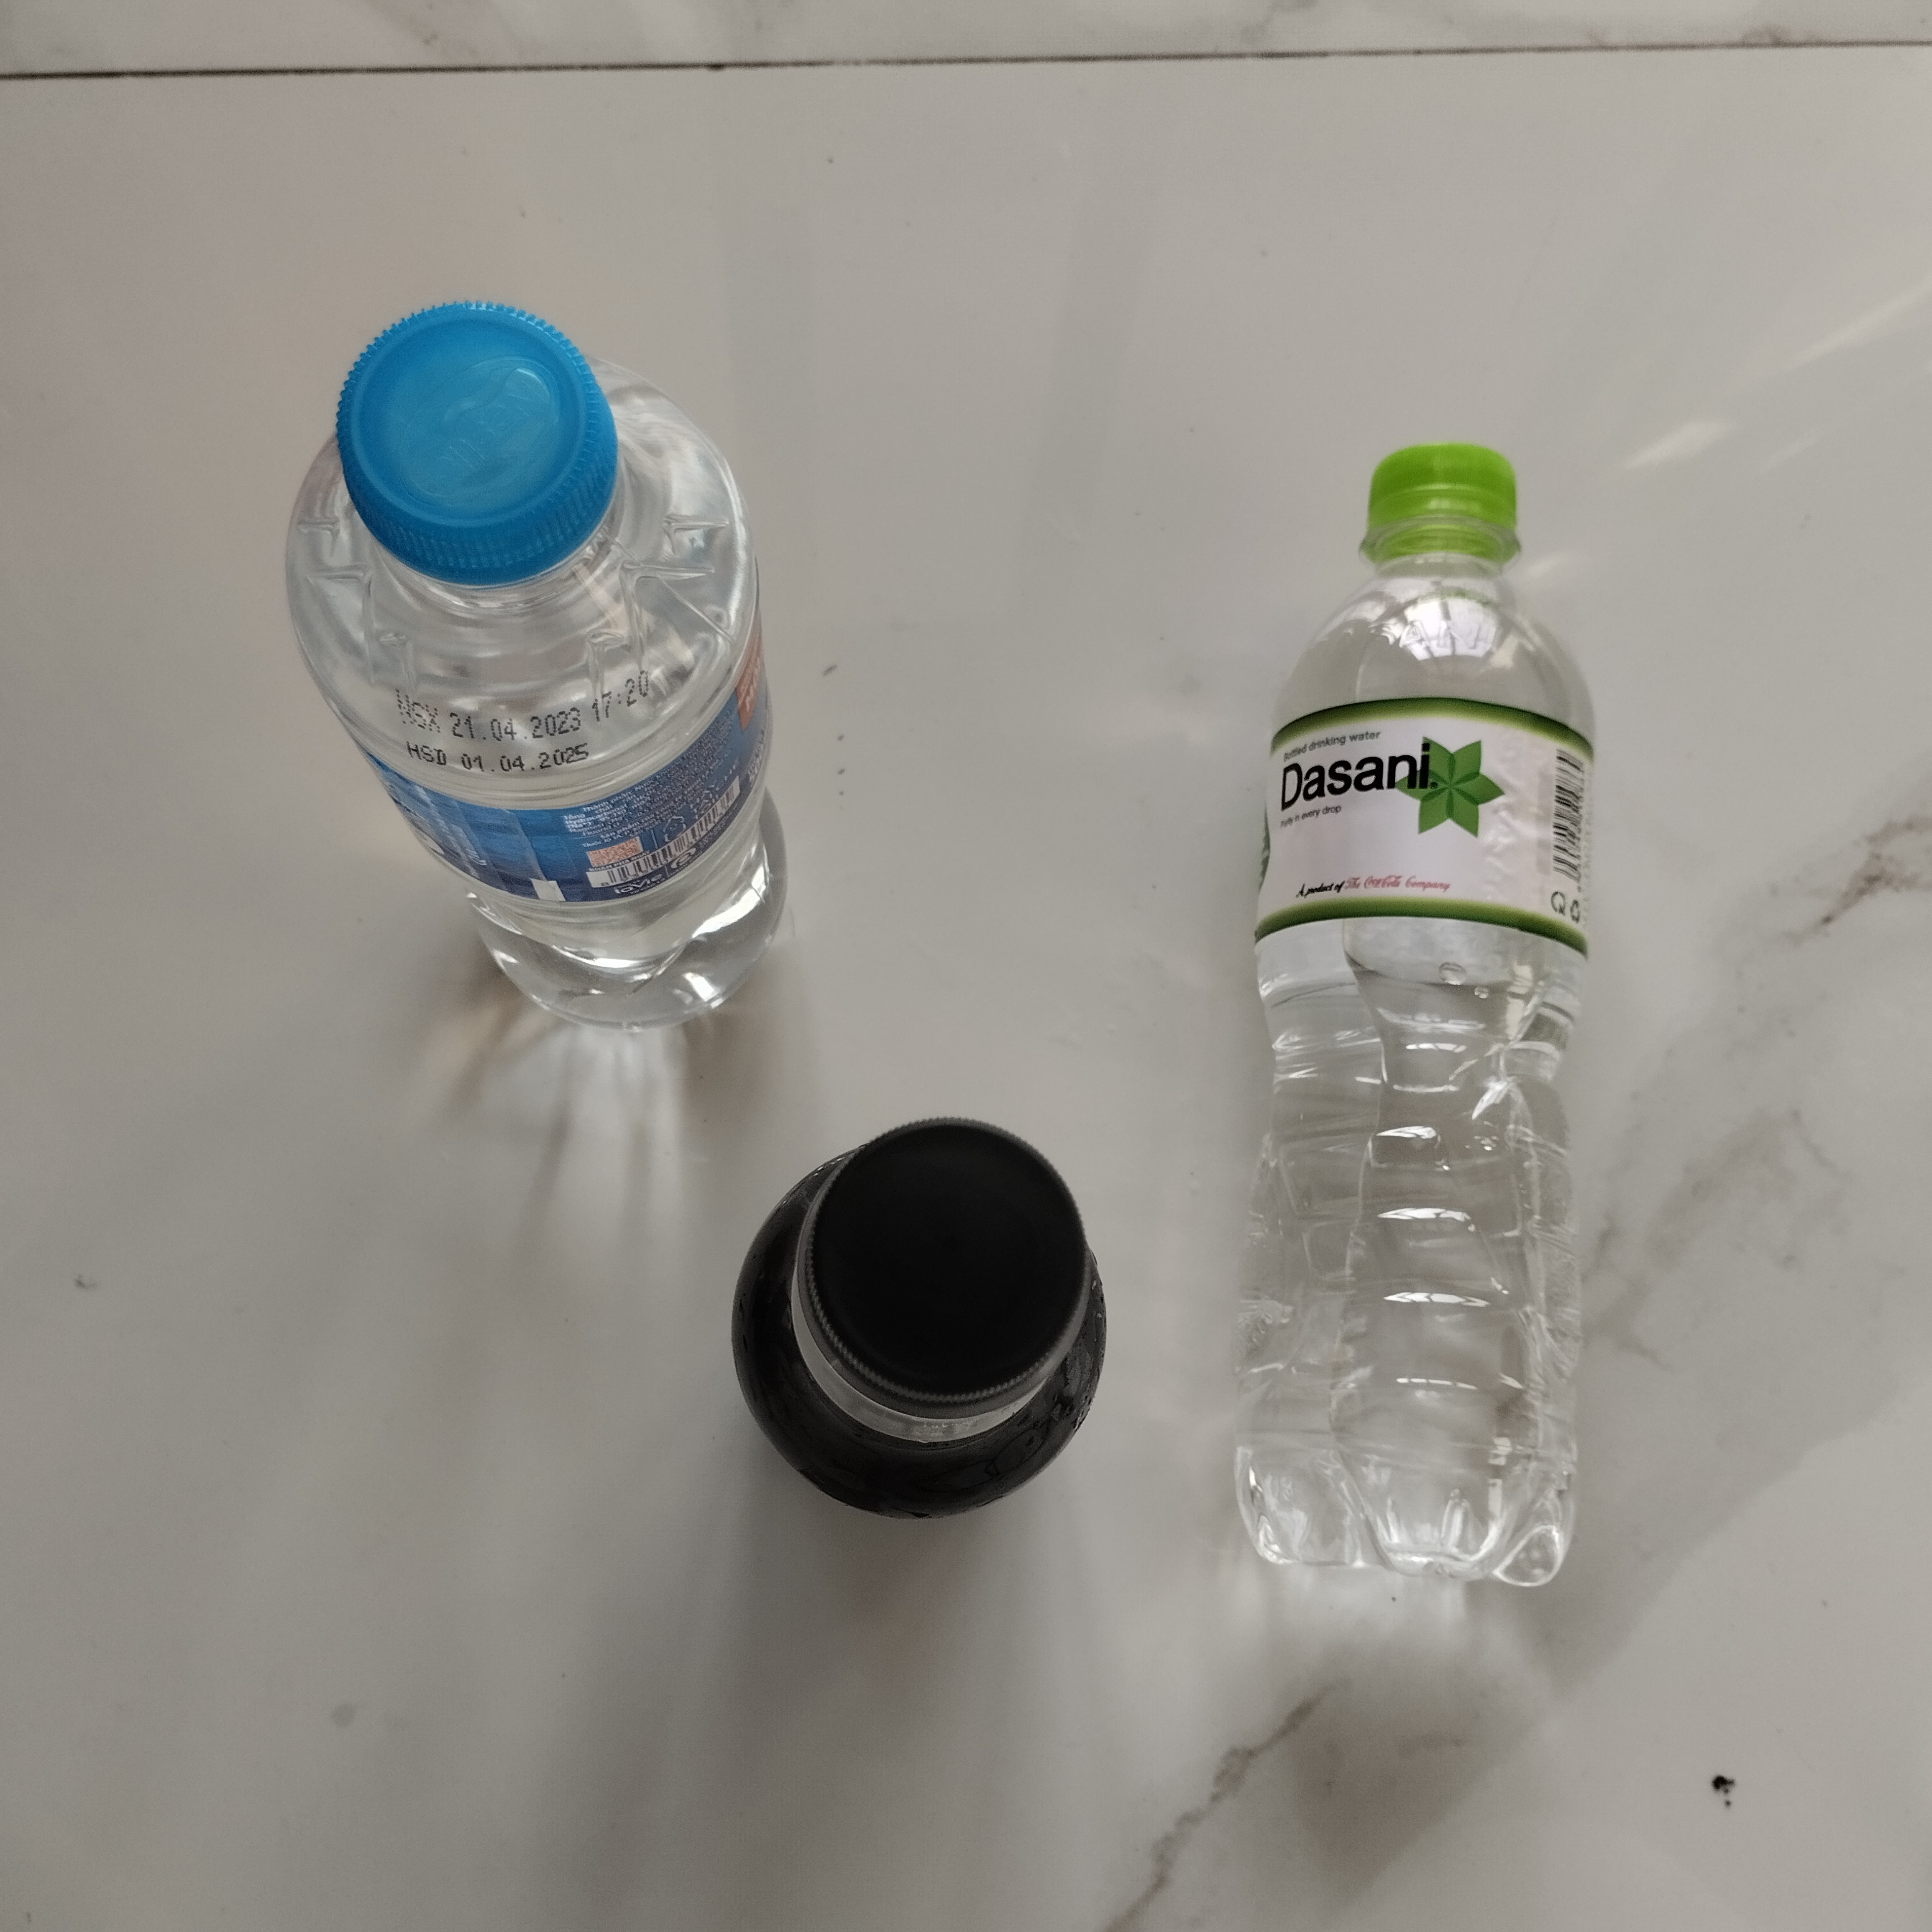247: (729, 1106, 1131, 1553)
Dasani: (1226, 418, 1603, 1598)
Lavie: (288, 295, 810, 1030)
